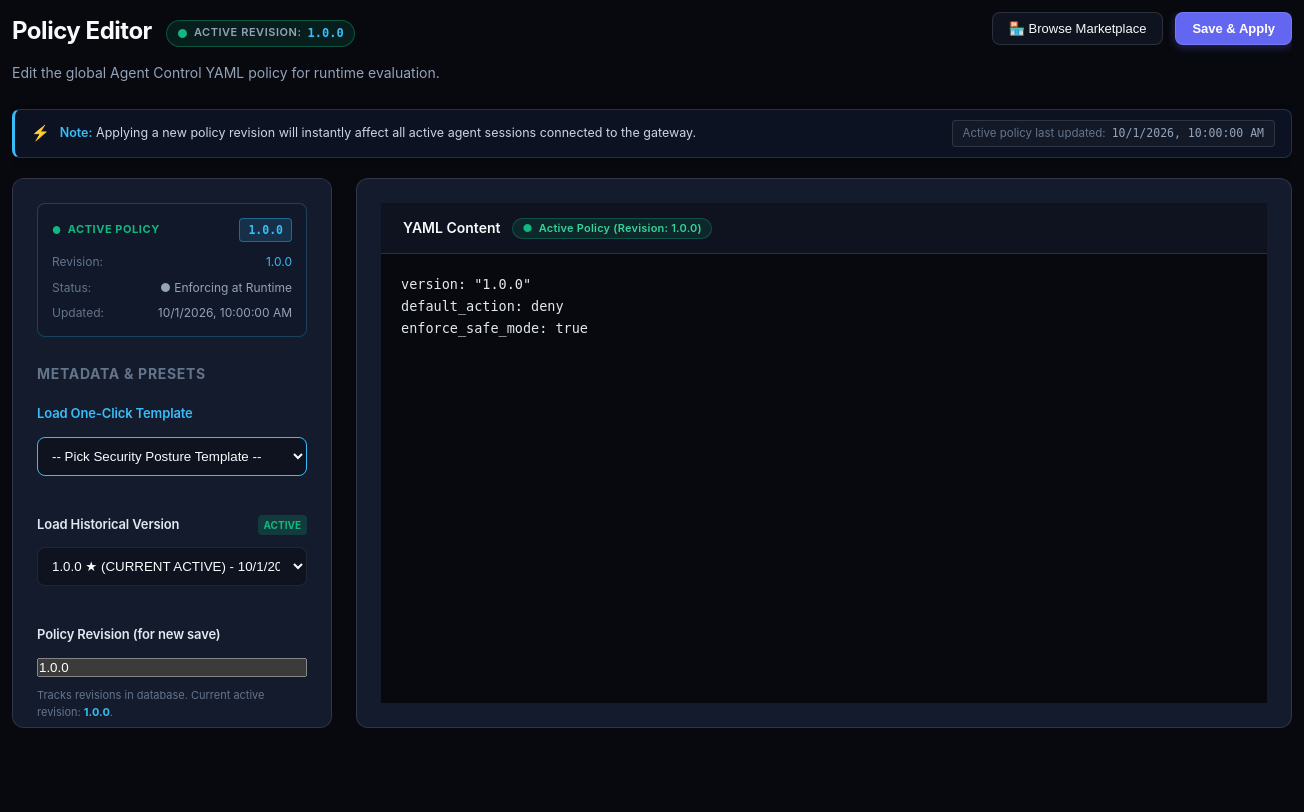
it: PolicyEditor View › allows selecting a past historical version and then reverting to active
This screenshot has width=1304, height=812.
Expected: the heading "Policy Editor" is shown, [12,12,152,50]
Select "0.9.0 - 9/1/2026, 10:00:00 AM" in the dropdown labelled "Load Historical Version": (172, 566) [37,547,307,586]
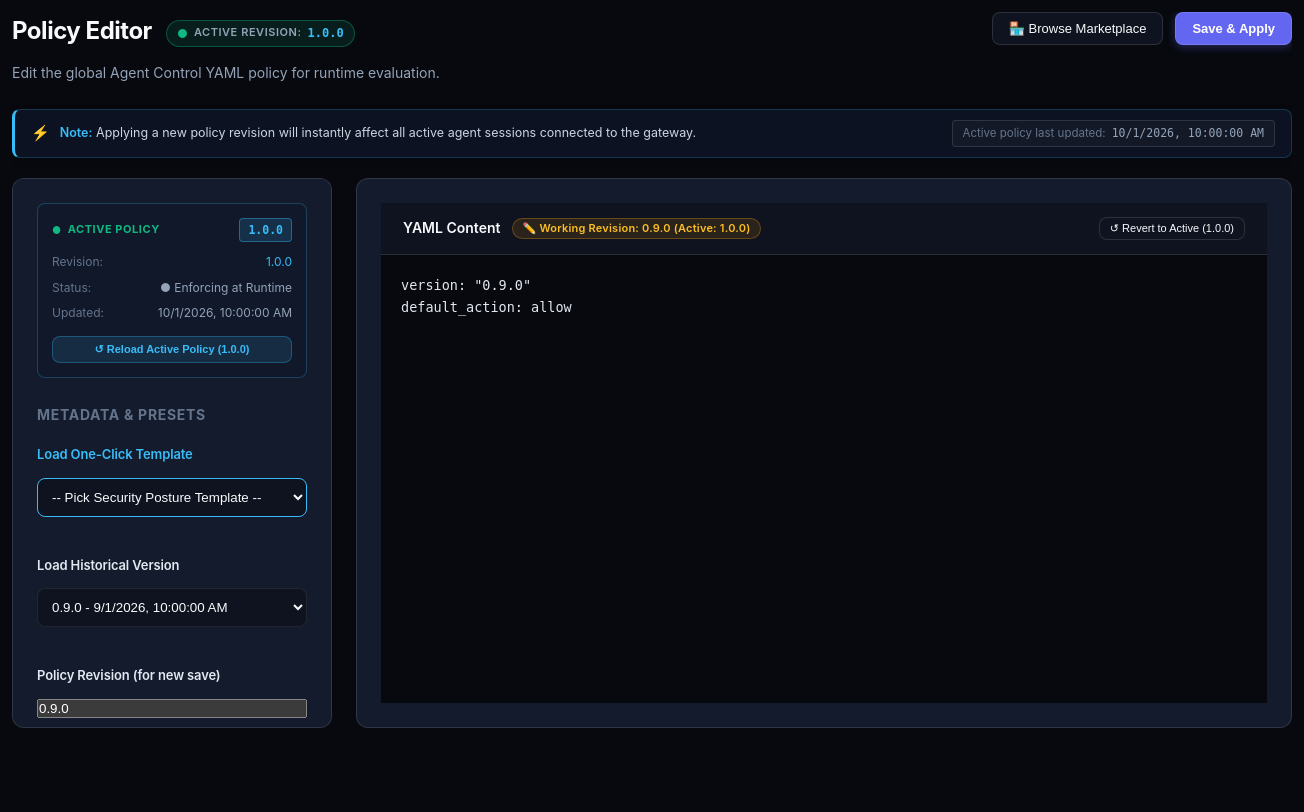
Expected: the field labelled "Policy Revision (for new save)" holds "0.9.0", [37,699,307,718]
Expected: the button "↺ Reload Active Policy (1.0.0)" is shown
Click revert
Click the button "↺ Reload Active Policy (1.0.0)": (172, 350) [52,336,292,363]
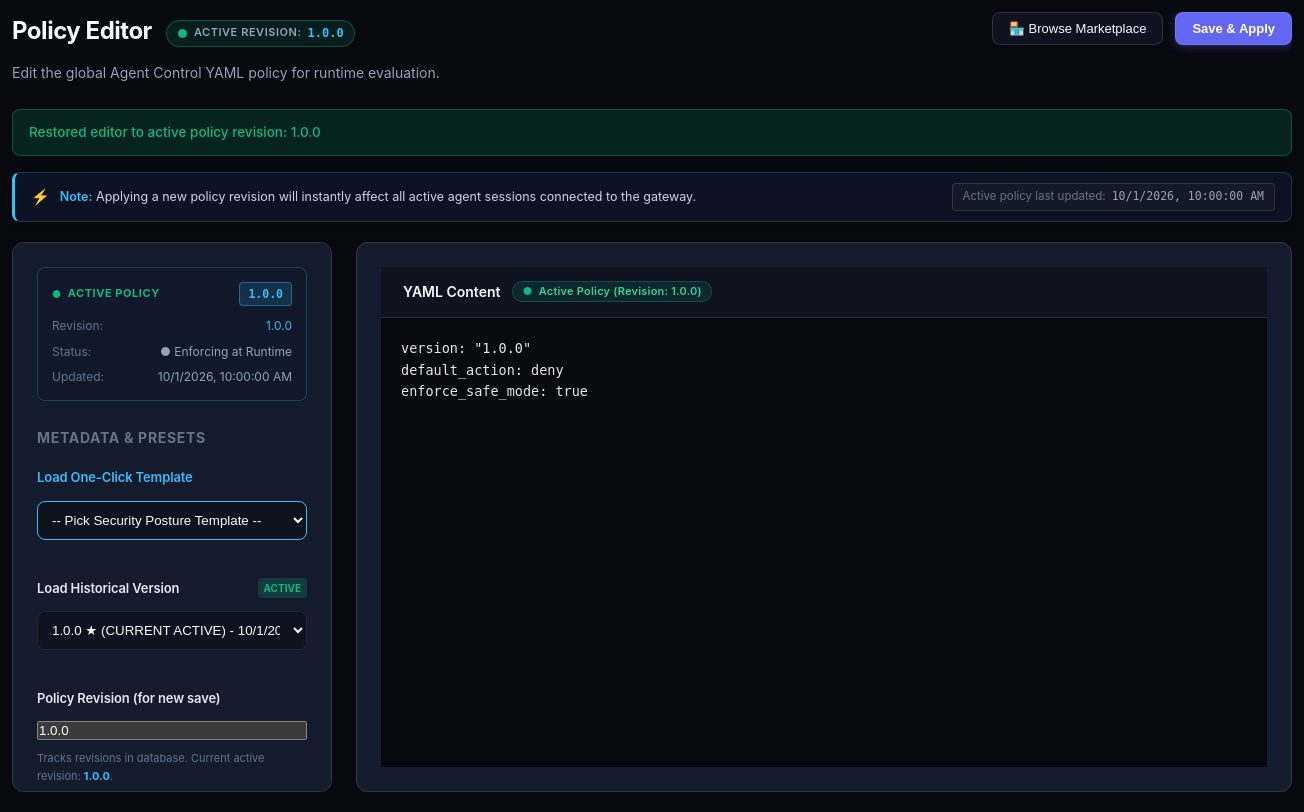
Expected: the field labelled "Policy Revision (for new save)" holds "1.0.0", [37,721,307,740]
